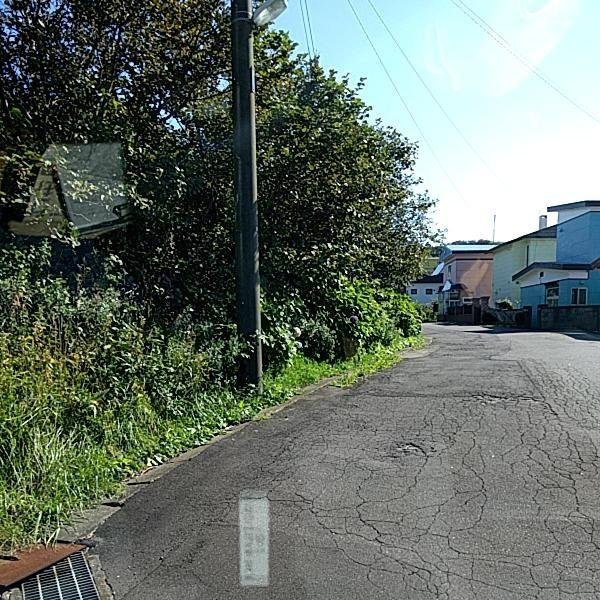pothole: (380, 440, 425, 462), (466, 394, 509, 407)
